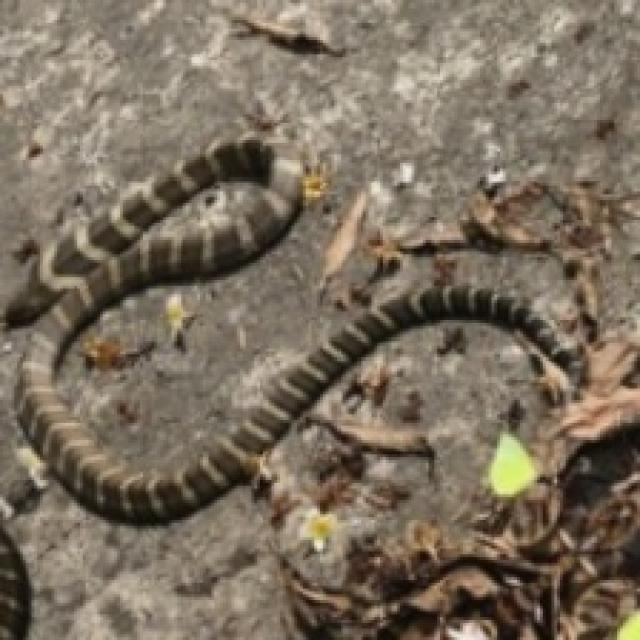king cobra: (14, 137, 583, 523)
